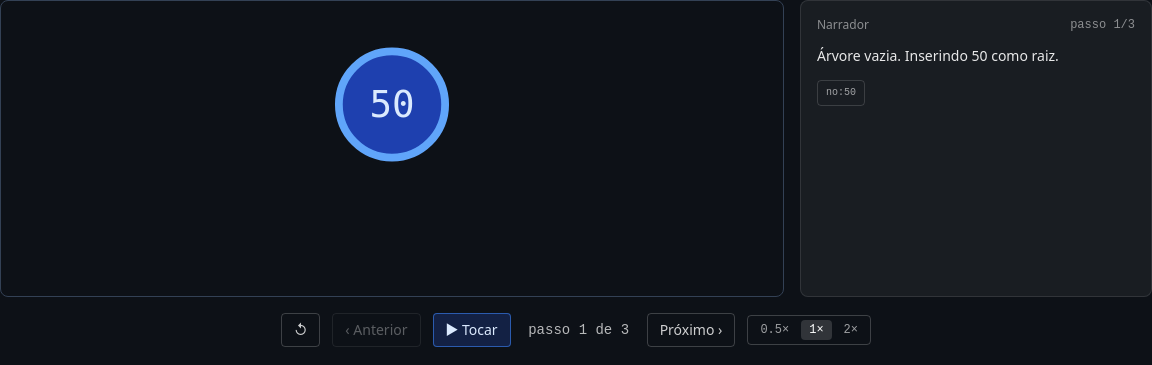
IndiceBSTVisual › ao avançar mostra passo da comparação e segue destacando raiz
The width and height of the screenshot is (1152, 365).
Click the button "Próximo ›": coordinates (691, 330) x1=647 y1=312 x2=735 y2=346
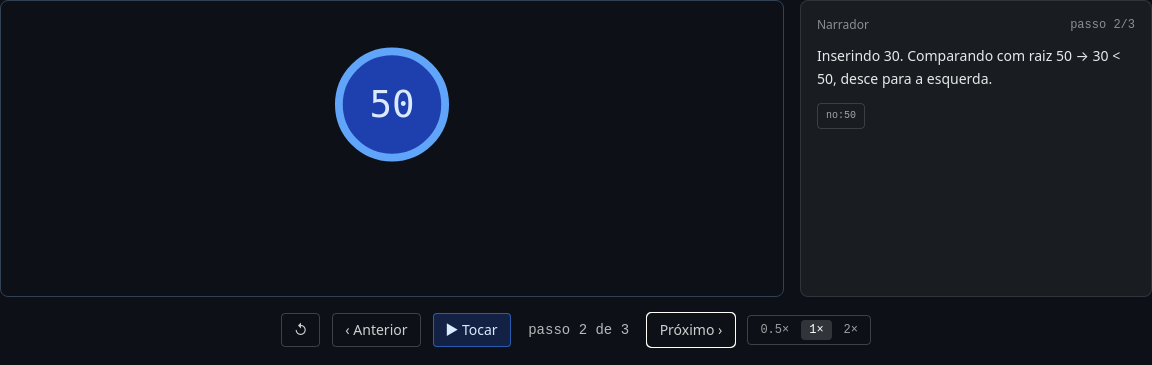
Now the text "passo 2 de 3" is shown, box x1=523 y1=320 x2=635 y2=340
Now the text "desce para a esquerda" is shown, box x1=817 y1=46 x2=1120 y2=88
